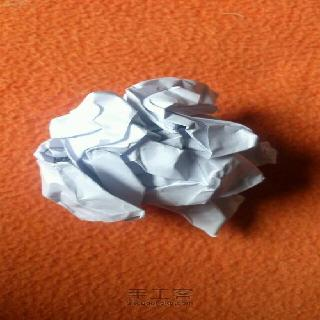8/可回收垃圾/纸: (32, 76, 278, 239)
